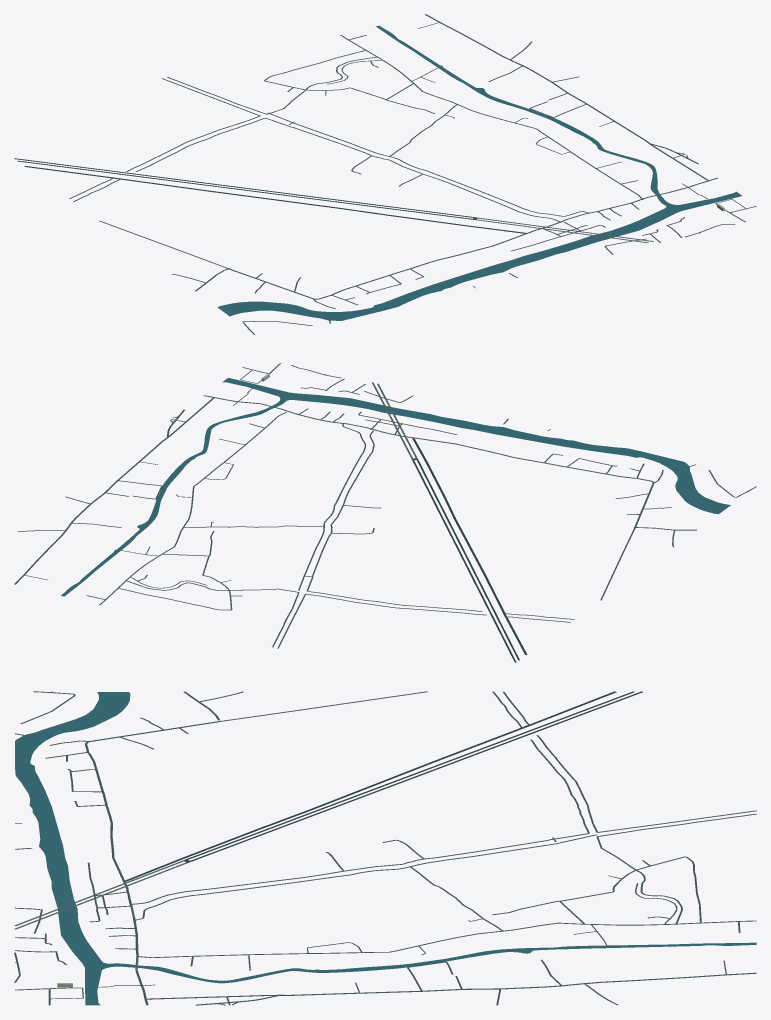
3 views of the same model, one above another, from view 1: azimuth 30°, elevation 25°; view 2: azimuth 150°, elevation 25°; view 3: azimuth 270°, elevation 25° (orthographic). The views are drawn at different scales.
Parts seen in each view (by area): view 1: street, water, major, bridge; view 2: street, water, major, bridge; view 3: street, water, major, bridge.
Boxes of the visible parts, left/top/right/bottom form: street: left=69, top=14, right=756, bottom=334; water: left=217, top=25, right=741, bottom=320; major: left=14, top=158, right=526, bottom=233; bridge: left=216, top=66, right=723, bottom=274; street: left=14, top=363, right=756, bottom=648; water: left=61, top=378, right=730, bottom=596; major: left=412, top=438, right=527, bottom=662; bridge: left=117, top=368, right=655, bottom=590; street: left=14, top=691, right=756, bottom=1005; water: left=15, top=692, right=756, bottom=1005; major: left=123, top=691, right=642, bottom=881; bridge: left=14, top=709, right=606, bottom=975.
Size of the model in its own units: 2006 by 12.42 by 2003.
